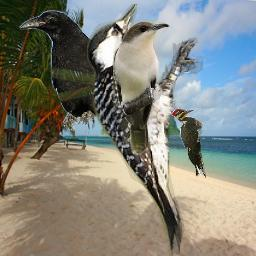Crow: (19, 10, 112, 131)
Cuckoo: (113, 21, 170, 156)
Woodpecker: (87, 4, 203, 256), (171, 108, 206, 179)
